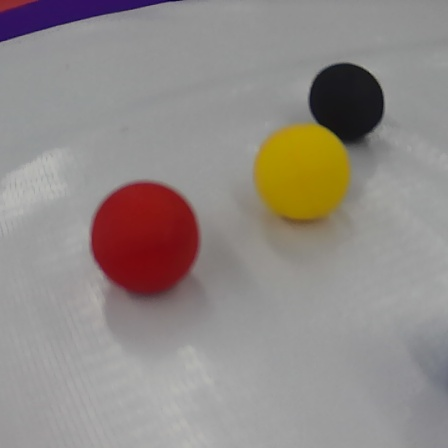black: (310, 60, 391, 143)
red: (93, 183, 202, 299)
yellow: (241, 119, 354, 232)
